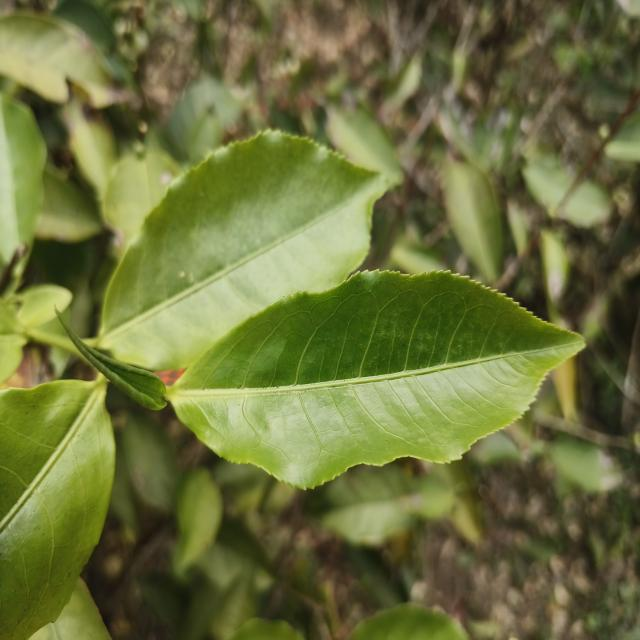Leaf: (168, 271, 582, 488), (100, 131, 385, 369), (0, 380, 115, 640), (0, 12, 124, 107), (304, 465, 412, 546), (102, 143, 180, 253), (0, 94, 46, 264), (442, 156, 502, 283), (167, 76, 242, 164), (326, 106, 403, 186), (196, 518, 273, 592), (63, 96, 117, 200), (123, 413, 178, 511), (173, 468, 222, 574), (35, 167, 102, 243), (349, 603, 468, 640), (549, 439, 620, 492), (211, 569, 256, 640), (522, 155, 573, 217), (557, 182, 610, 227), (403, 476, 454, 519), (540, 231, 569, 304)
